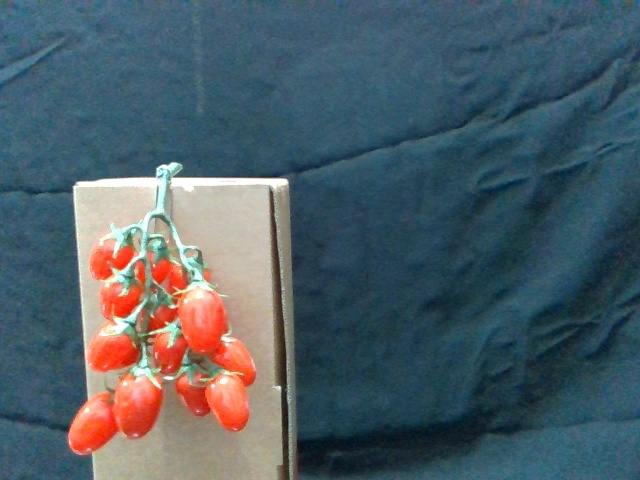tomato: (114, 365, 163, 439), (69, 389, 119, 454), (182, 281, 226, 350), (209, 371, 251, 432), (89, 320, 139, 368), (92, 230, 138, 280), (151, 324, 191, 376), (214, 334, 257, 381), (178, 363, 213, 419), (101, 270, 140, 318)
